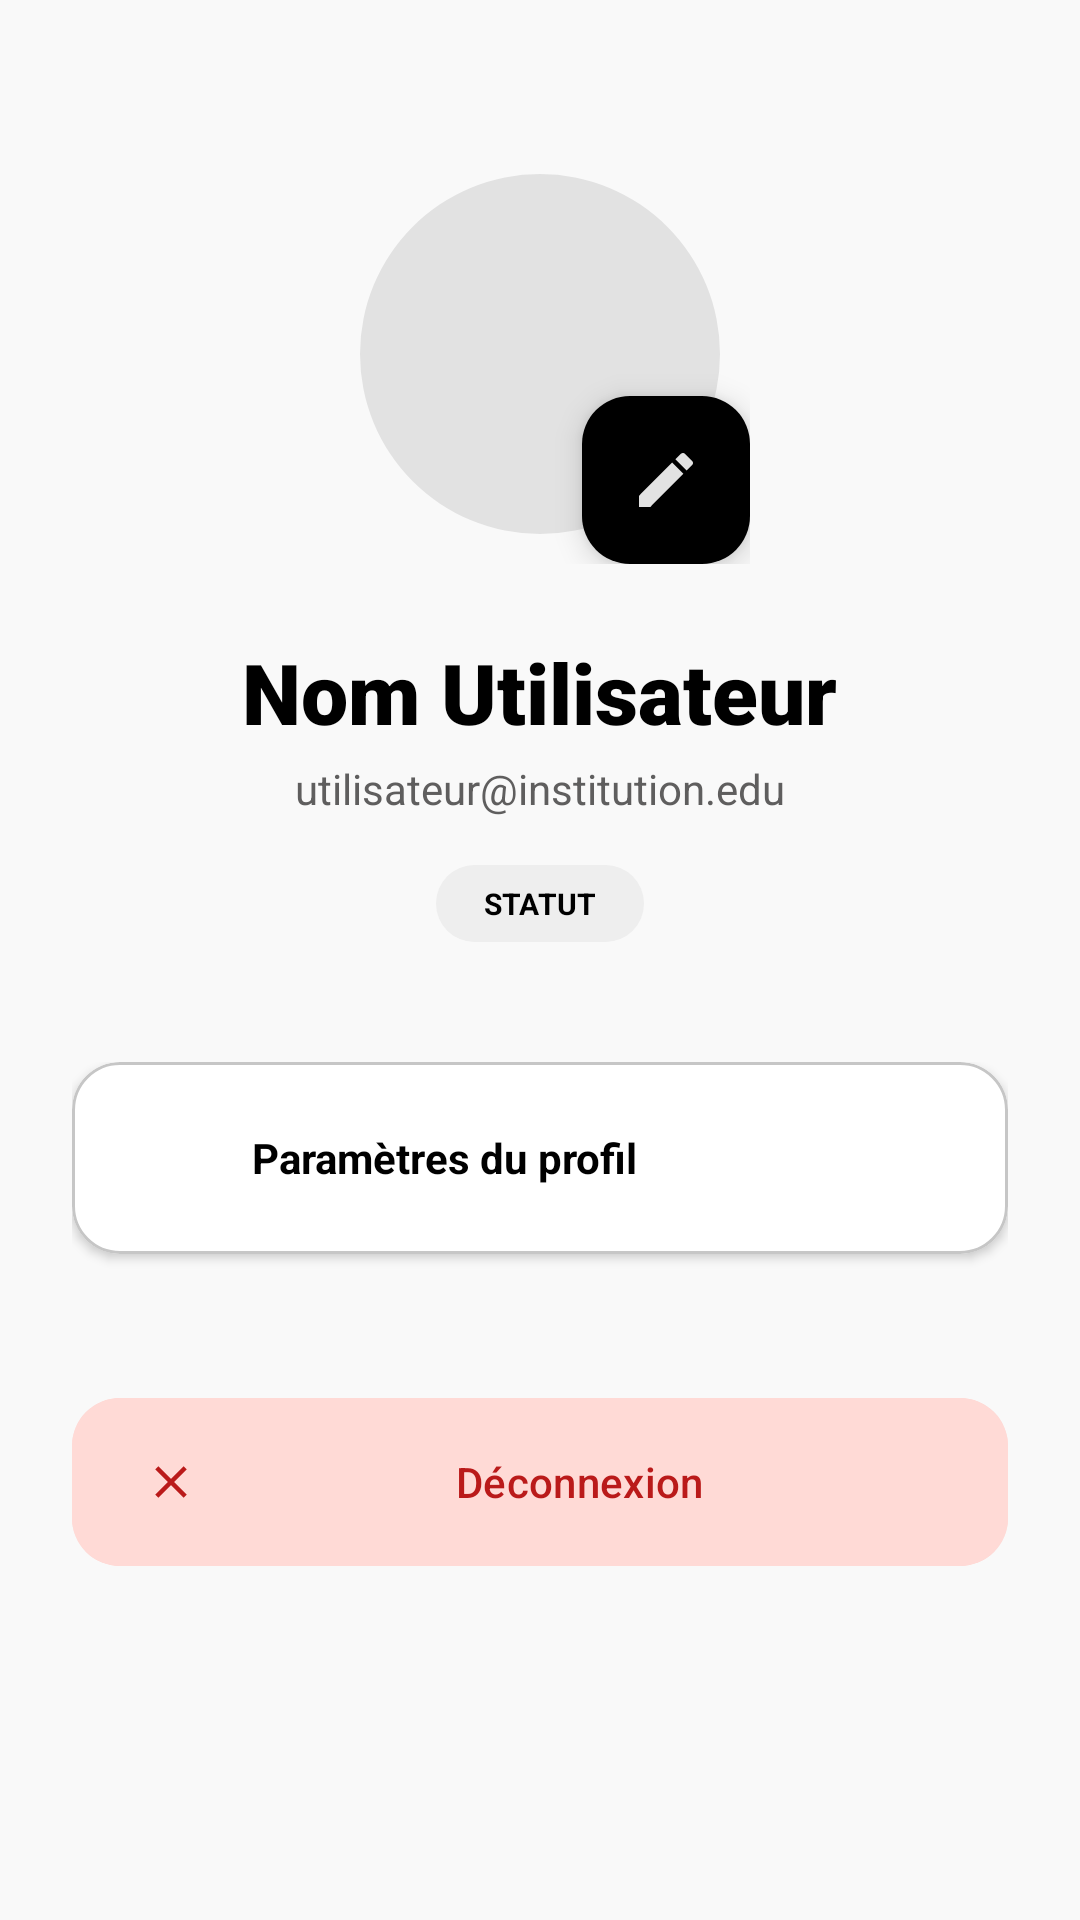

Screen size 1080px x 1920px. Icon name, then its center in pixels as (x,y):
edit: (666,480)
